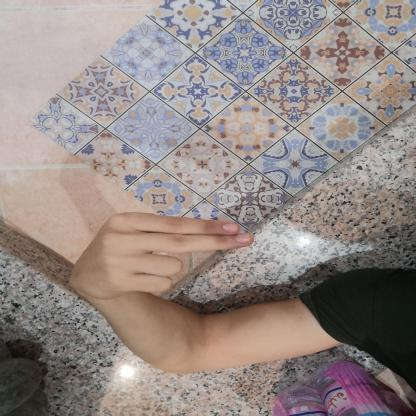AYN: (55, 198, 263, 310)
